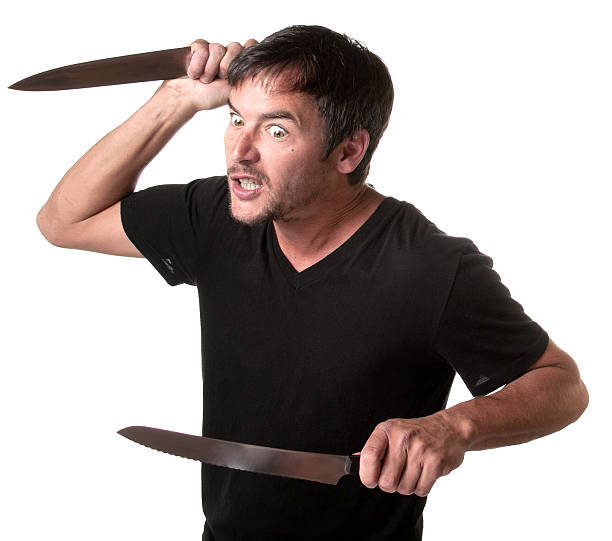knife: (116, 423, 354, 489), (8, 45, 195, 92)
